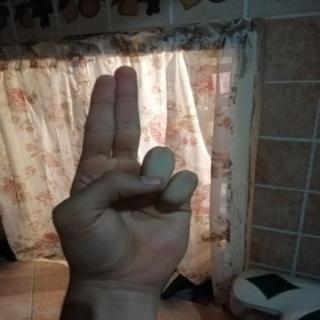TA: (40, 56, 208, 296)
